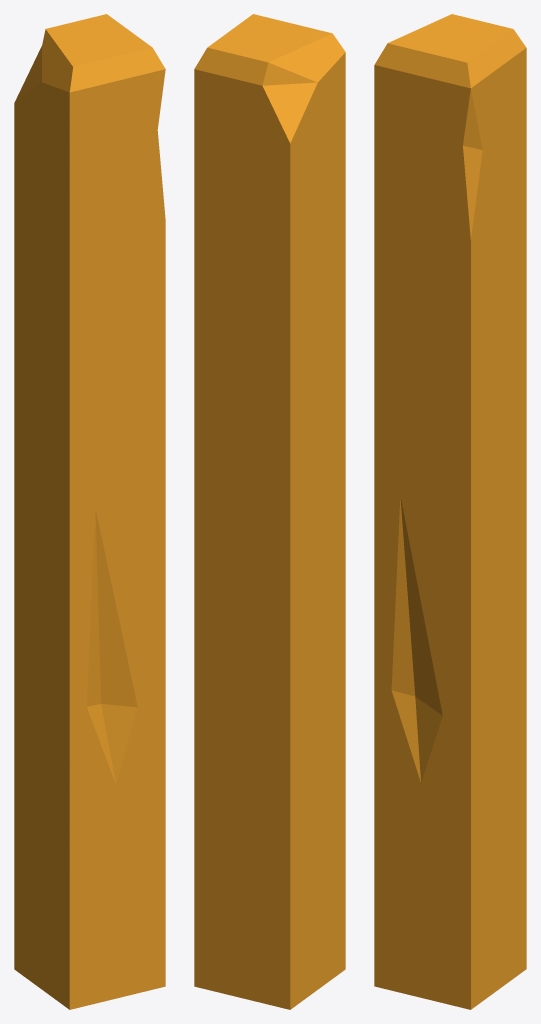
Rendered from SM_Fence_Horse_Pole.fbx.
3 renders of one model, left to right at view 1: azimuth 30°, elevation 25°; view 2: azimuth 150°, elevation 25°; view 3: azimuth 330°, elevation 25°, orthographic.
Visible parts, largest first — view 1: fence-horse-pole; view 2: fence-horse-pole; view 3: fence-horse-pole.
Part boxes in pixels (x1=…): fence-horse-pole: x1=14, y1=14, x2=165, y2=1009; fence-horse-pole: x1=194, y1=14, x2=345, y2=1009; fence-horse-pole: x1=374, y1=14, x2=526, y2=1009.
Size of the model in its own units: 0.15 by 1.4 by 0.15.
